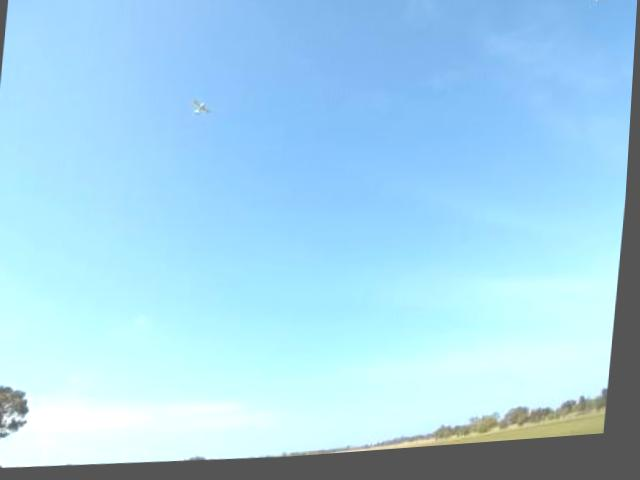uav: (188, 95, 218, 124)
